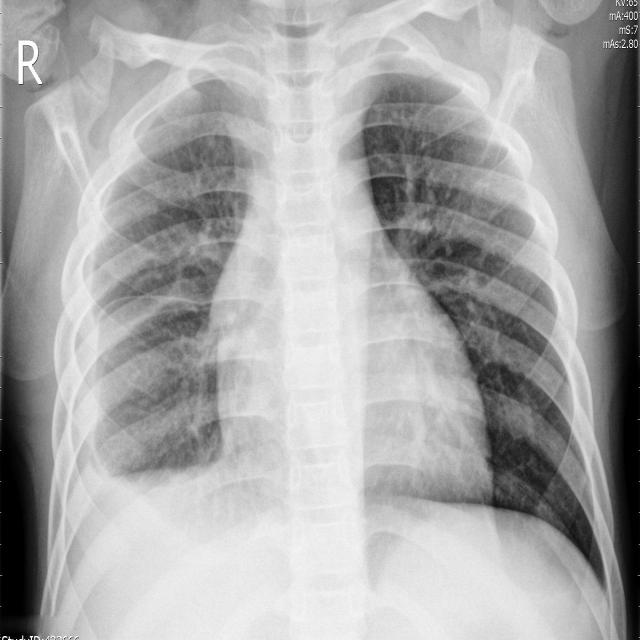low-pneumonia: (395, 143, 492, 363), (152, 195, 224, 435)
